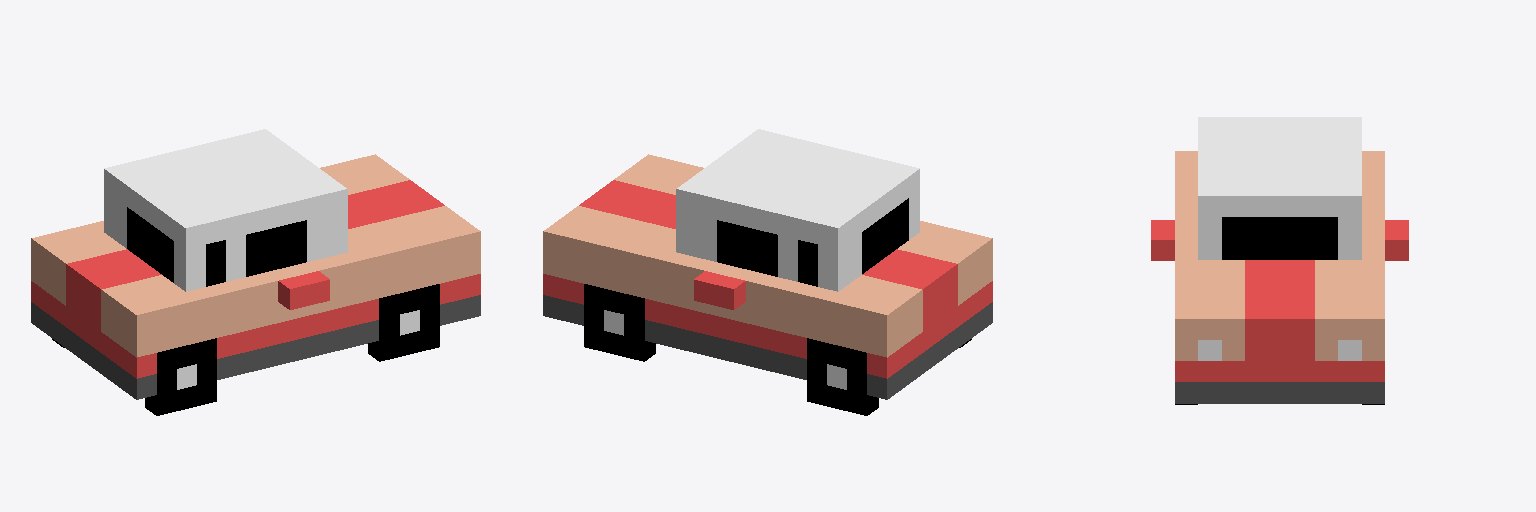
3 views of the same model, side by side, from view 1: azimuth 30°, elevation 25°; view 2: azimuth 150°, elevation 25°; view 3: azimuth 270°, elevation 25° (orthographic).
Parts seen in each view (by area): view 1: object 1; view 2: object 1; view 3: object 1.
Part boxes in pixels (left/top/right/bottom): object 1: left=31, top=129, right=480, bottom=415; object 1: left=543, top=129, right=992, bottom=415; object 1: left=1151, top=117, right=1408, bottom=404.
Bounding box in the file's own units: 1.7 × 0.8 × 1.1.
Materials: 1 (1 with a texture image).